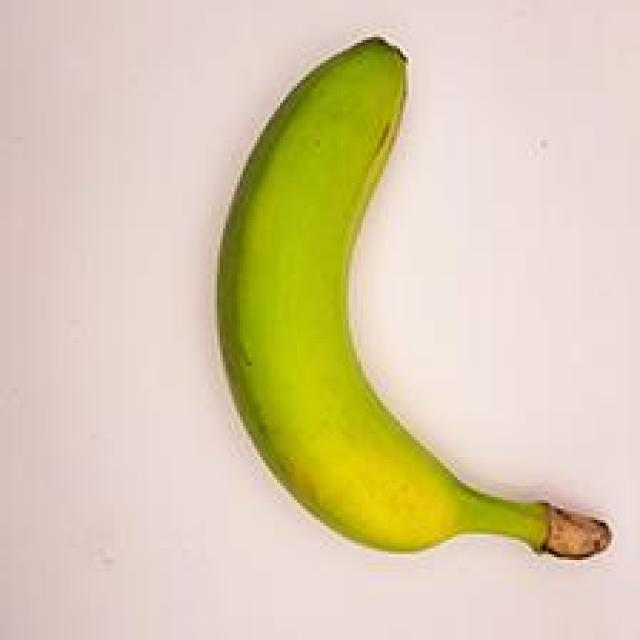Unripe: (205, 16, 626, 595)
